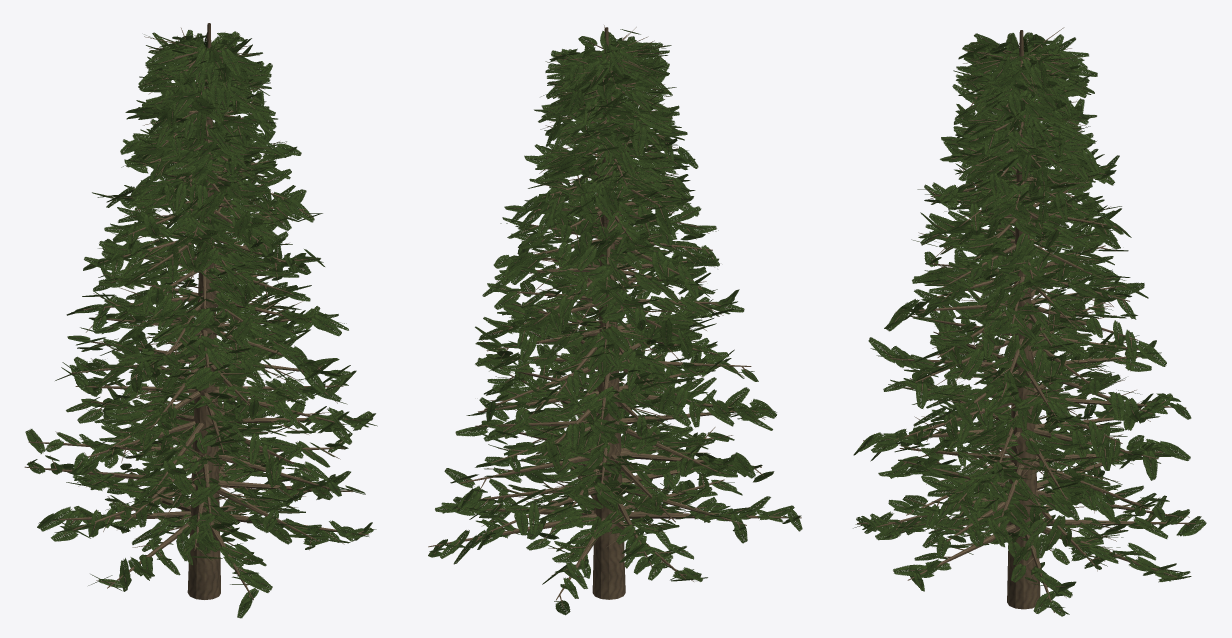
The model's file is pine_tree.glb.
The picture shows the model from 3 angles, left to right: view 1: azimuth 30°, elevation 25°; view 2: azimuth 150°, elevation 25°; view 3: azimuth 270°, elevation 25°; orthographic projection.
Parts seen in each view (by area): view 1: pine_tree_premium; view 2: pine_tree_premium; view 3: pine_tree_premium.
Boxes of the visible parts, x1,y1,x2,y2 form: pine_tree_premium: (24,23,377,618); pine_tree_premium: (428,25,802,615); pine_tree_premium: (853,27,1206,616).
Bounding box in the file's own units: 4.93 × 8.32 × 4.94.
2 materials, 2 textured.
